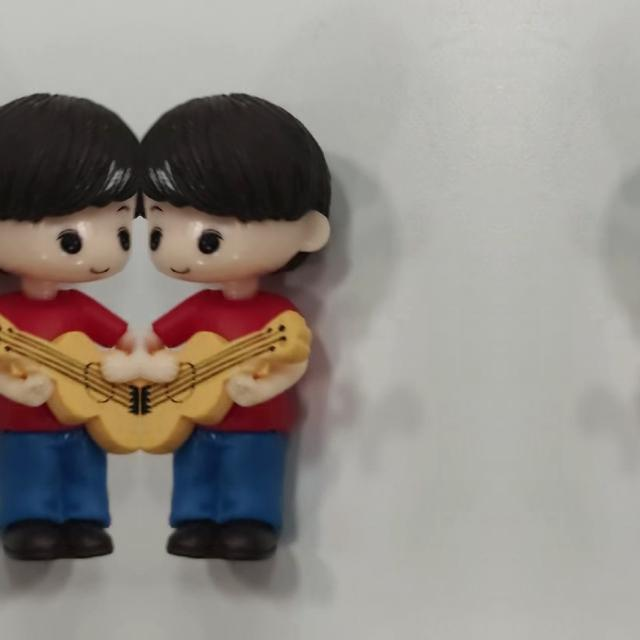man cloth: (151, 295, 313, 435), (0, 295, 129, 435)
man head: (140, 90, 336, 292), (0, 90, 139, 292)
trousers: (162, 426, 292, 566), (0, 426, 118, 566)
